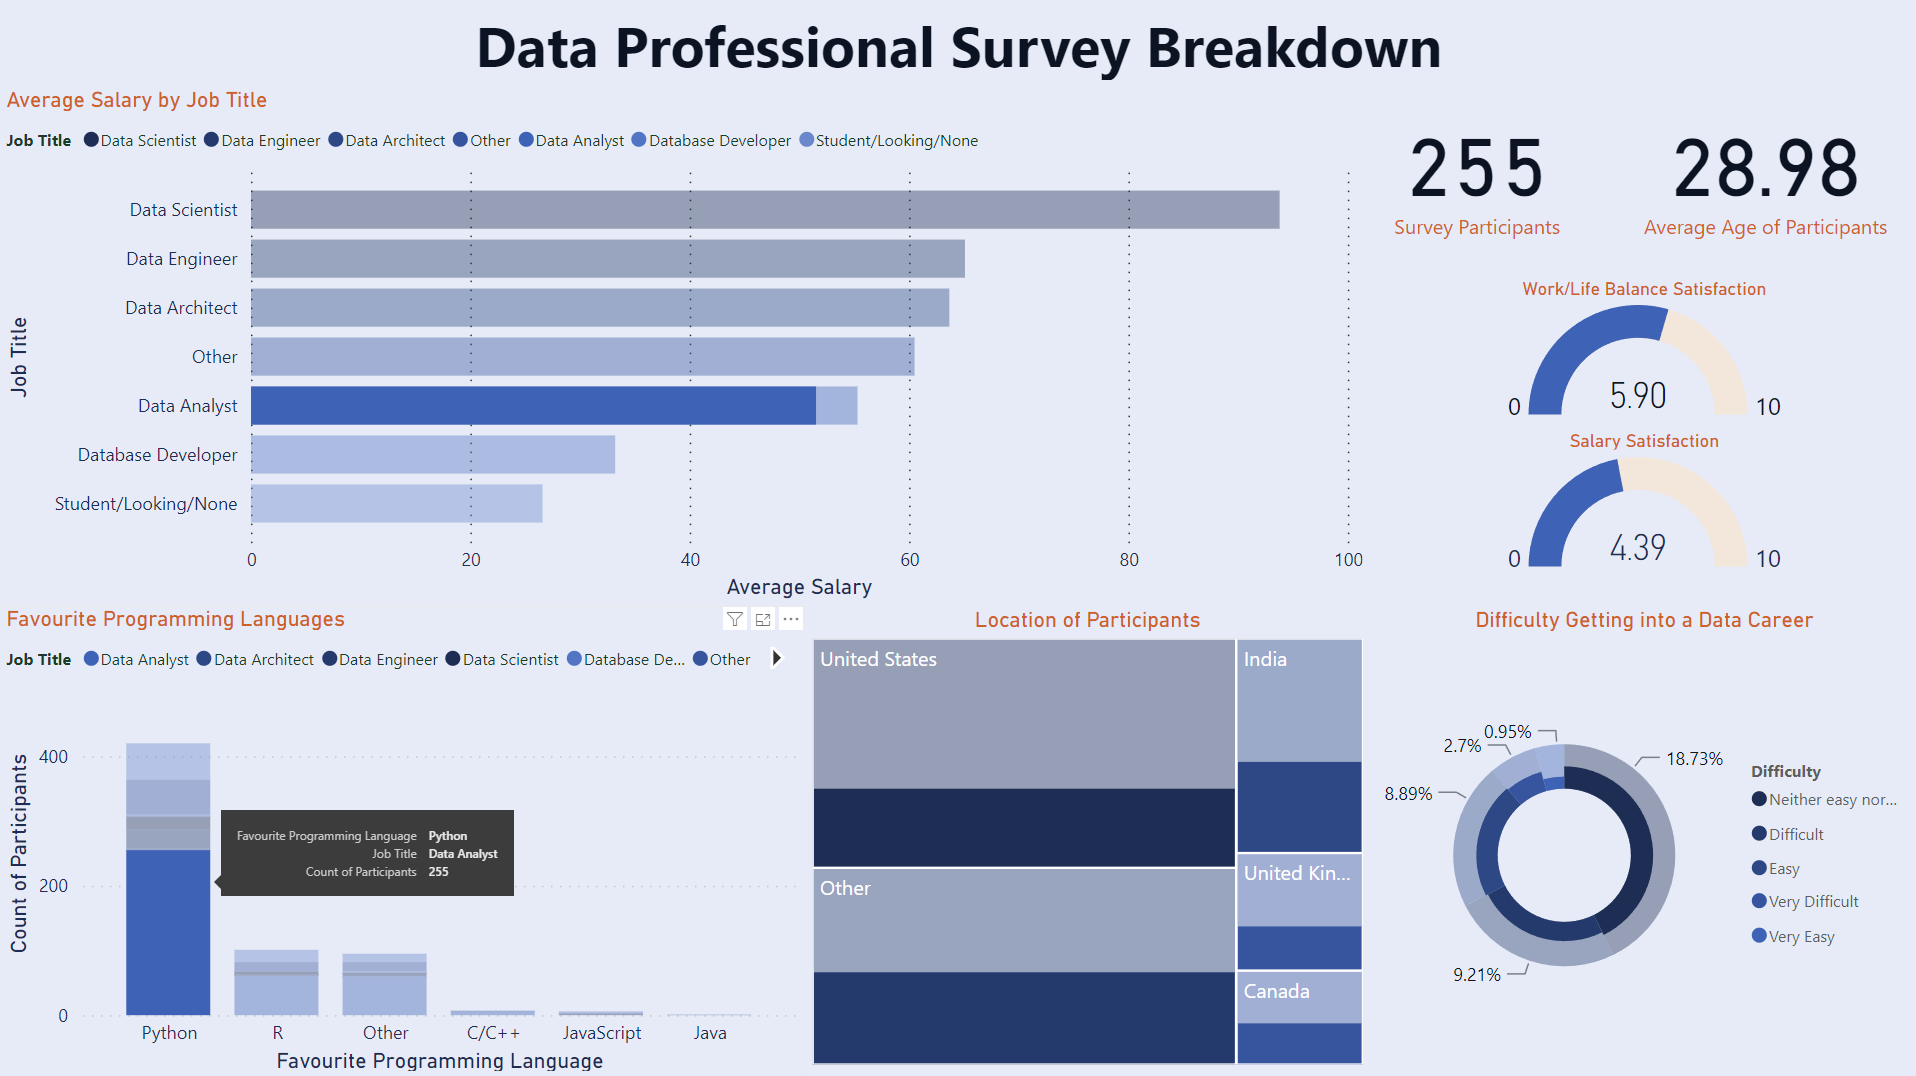

This screenshot's page, from the dashboard's own definition file:
{"tool":"powerbi","page":{"name":"Page 1","canvas":[1280,720],"ordinal":0},"visuals":[{"type":"textbox","box":[0,0,1279.8,58.8],"z":0},{"type":"card","fields":{"Values":["CountNonNull(Data Professional Survey.Unique ID)"]},"box":[896,59,179,109],"z":1000},{"type":"card","fields":{"Values":["Avg(Data Professional Survey.Q10 - Current Age)"]},"box":[1075,59,205,109],"z":2000},{"type":"barChart","title":"Average Salary by Job Title","fields":{"Y":["Avg(Data Professional Survey.Average Salary )"],"Category":["Data Professional Survey.Q1 - Which Title Best Fits your Current Role?.1"],"Series":["Data Professional Survey.Q1 - Which Title Best Fits your Current Role?.1"]},"box":[0,58.8,914.2,345.8],"z":3000},{"type":"columnChart","title":"Favourite Programming Languages","fields":{"Category":["Data Professional Survey.Q5 - Favorite Programming Language.1"],"Y":["CountNonNull(Data Professional Survey.Unique ID)"],"Series":["Data Professional Survey.Q1 - Which Title Best Fits your Current Role?.1"]},"box":[0,404.5,536.9,315.5],"z":4000},{"type":"treemap","title":"Location of Participants","fields":{"Group":["Data Professional Survey.Q11 - Which Country do you live in?.1"],"Values":["CountNonNull(Data Professional Survey.Q11 - Which Country do you live in?.1)"]},"box":[537,405,377,310],"z":5000},{"type":"gauge","title":"Work/Life Balance Satisfaction","fields":{"Y":["Avg(Data Professional Survey.Q6 - How Happy are you in your Current Position with the following? (Work/Life Balance))"],"MinValue":["Min(Data Professional Survey.Q6 - How Happy are you in your Current Position with the following? (Work/Life Balance))"],"MaxValue":["Max(Data Professional Survey.Q6 - How Happy are you in your Current Position with the following? (Work/Life Balance))1"]},"box":[914,186,366,101],"z":6000},{"type":"gauge","title":"Salary Satisfaction","fields":{"Y":["Avg(Data Professional Survey.Q6 - How Happy are you in your Current Position with the following? (Salary))"],"MinValue":["Min(Data Professional Survey.Q6 - How Happy are you in your Current Position with the following? (Salary))"],"MaxValue":["Max(Data Professional Survey.Q6 - How Happy are you in your Current Position with the following? (Salary))"]},"box":[914,287,366,101],"z":7000},{"type":"donutChart","title":"Difficulty Getting into a Data Career","fields":{"Category":["Data Professional Survey.Q7 - How difficult was it for you to break into Data?"],"Y":["CountNonNull(Data Professional Survey.Q7 - How difficult was it for you to break into Data?)"]},"box":[914,405,366,315],"z":8000}]}

Visuals, with their boxes in screenshot pixels (x1, y1, x2, y2), scaled from the page's 1280x720 canvas onto the 1916x1076 screenshot:
textbox: left=0, top=0, right=1915, bottom=88
card - CountNonNull(Data Professional Survey.Unique ID): left=1341, top=88, right=1609, bottom=251
card - Avg(Data Professional Survey.Q10 - Current Age): left=1609, top=88, right=1915, bottom=251
"Average Salary by Job Title" barChart: left=0, top=88, right=1368, bottom=605
"Favourite Programming Languages" columnChart: left=0, top=605, right=804, bottom=1075
"Location of Participants" treemap: left=804, top=605, right=1368, bottom=1069
"Work/Life Balance Satisfaction" gauge: left=1368, top=278, right=1915, bottom=429
"Salary Satisfaction" gauge: left=1368, top=429, right=1915, bottom=580
"Difficulty Getting into a Data Career" donutChart: left=1368, top=605, right=1915, bottom=1075
